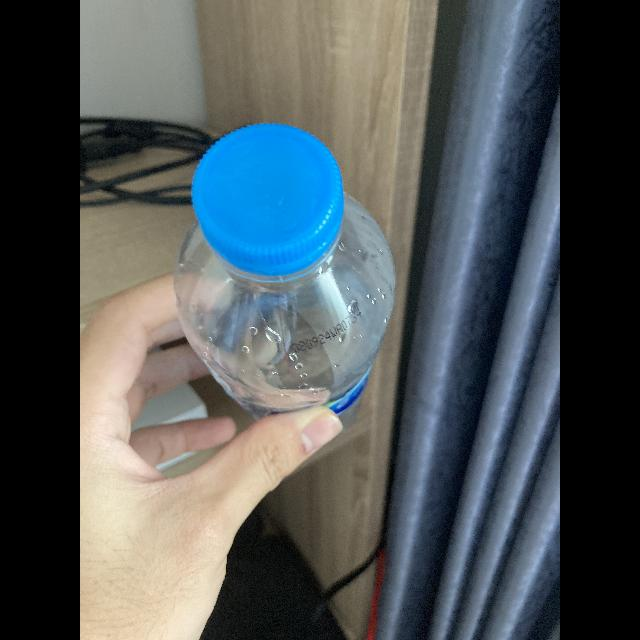plastic_bottle: (165, 115, 401, 437)
plastic_bottle_cap: (190, 120, 346, 282)
